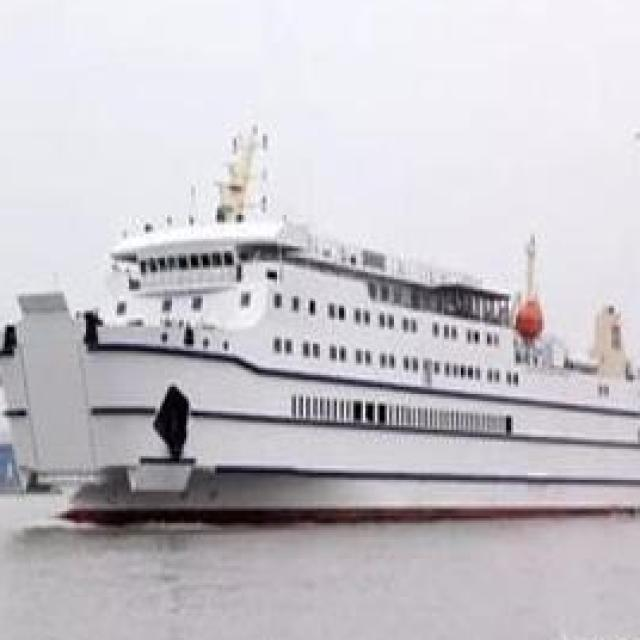passenger ship: (12, 177, 640, 528)
